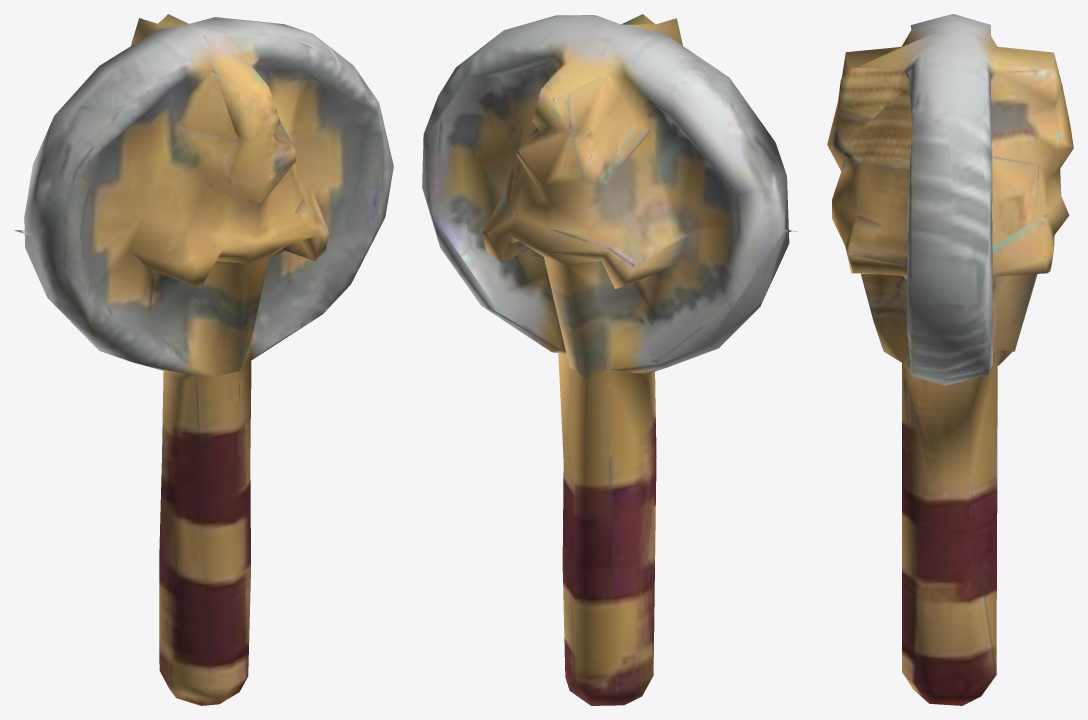
Rendered from mace_round.glb.
The picture shows the model from 3 angles, left to right: view 1: azimuth 30°, elevation 25°; view 2: azimuth 150°, elevation 25°; view 3: azimuth 270°, elevation 25°; orthographic projection.
Visible parts, largest first — view 1: round_mace; view 2: round_mace; view 3: round_mace.
Boxes of the visible parts, box(x1,y1,x2,y2) form: round_mace: box(14, 14, 393, 705); round_mace: box(422, 14, 797, 705); round_mace: box(827, 14, 1073, 705).
Size of the model in its own units: 0.1763 by 0.3061 by 0.1033.
1 material, 1 textured.
